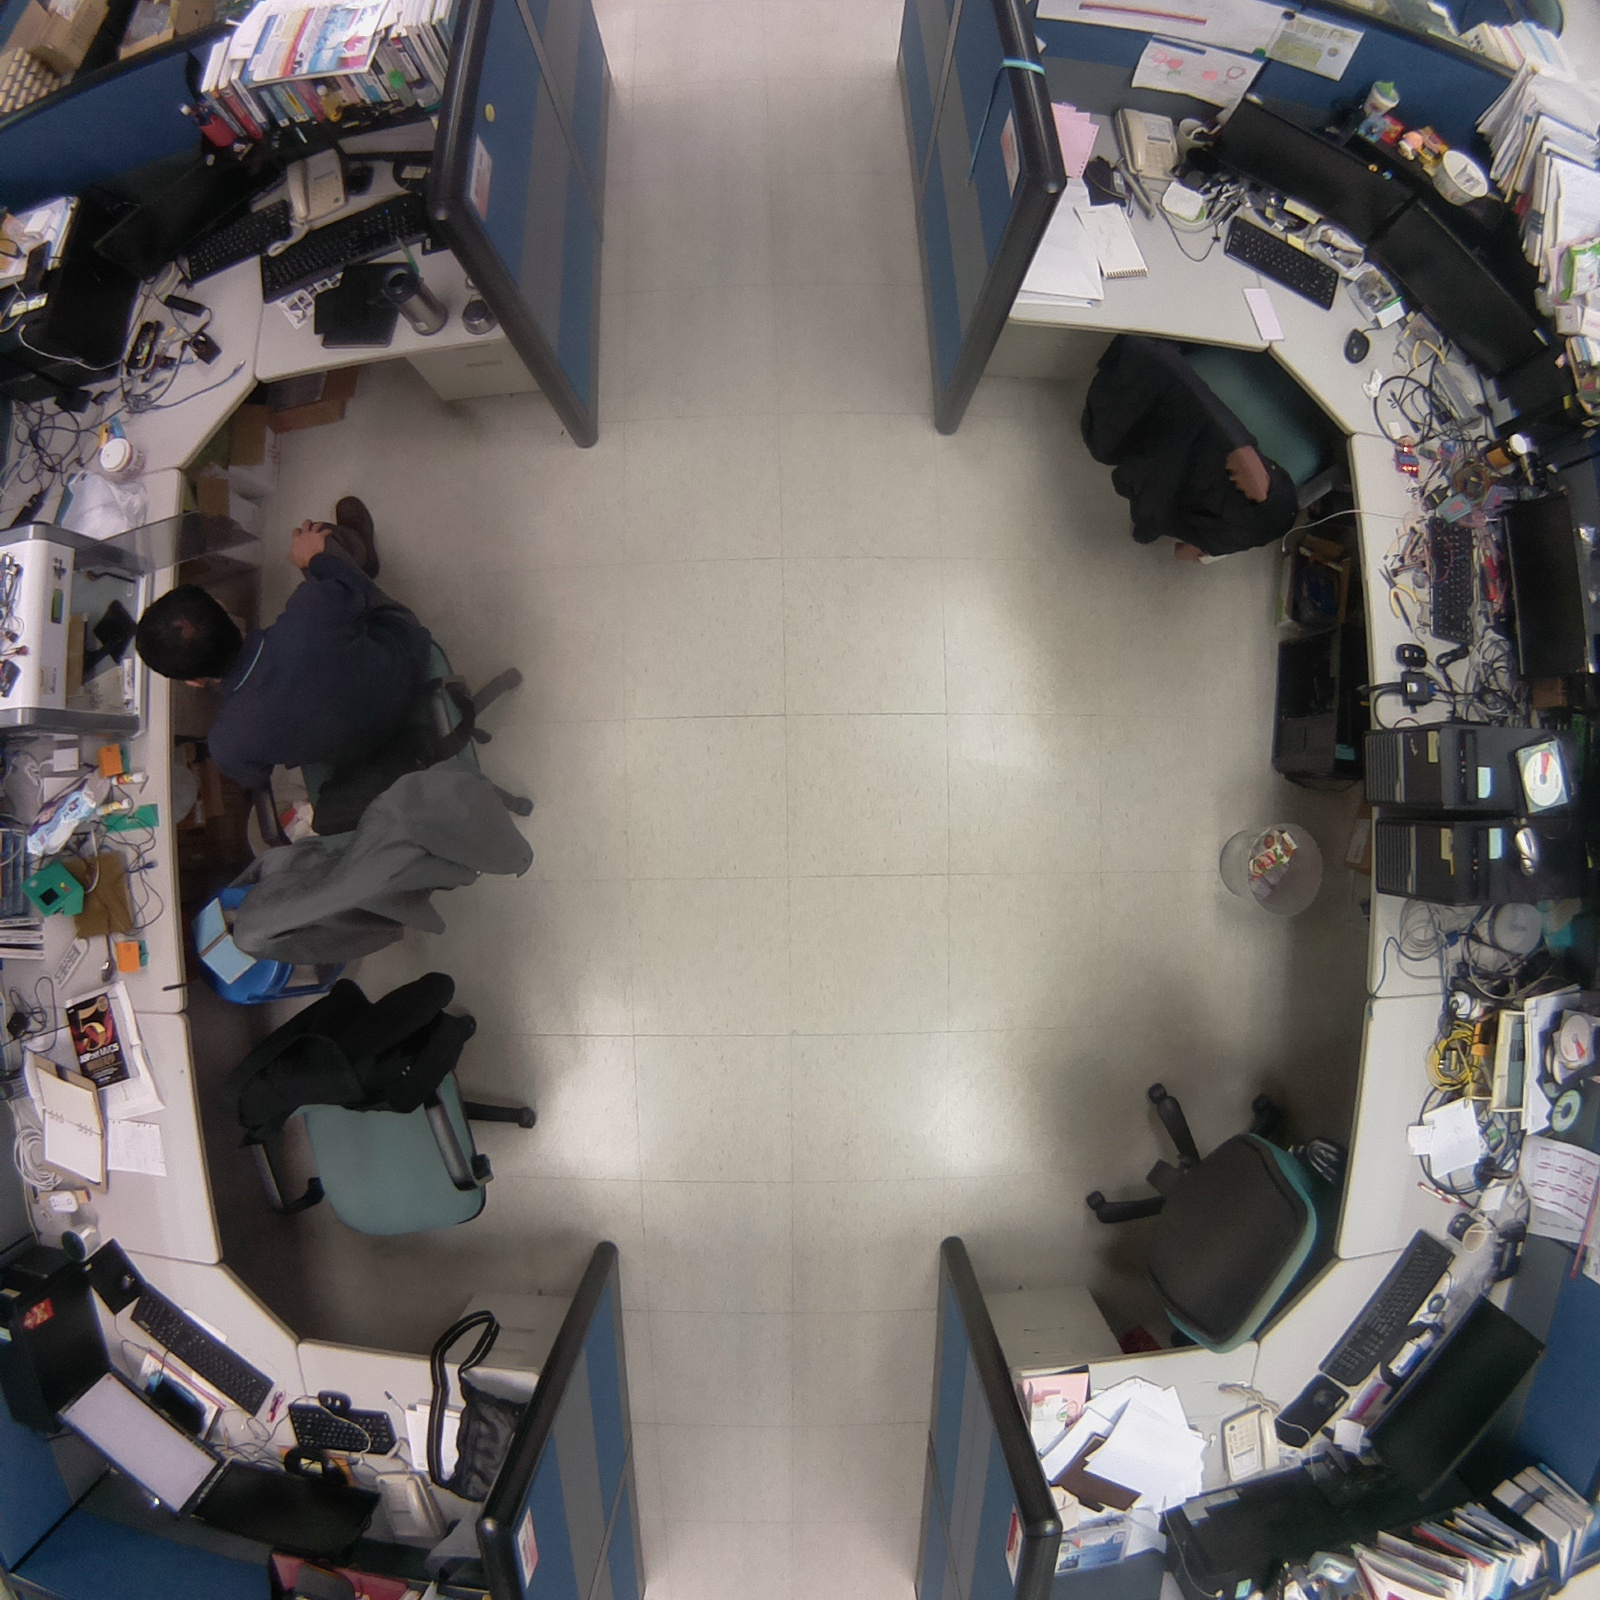chair: (227, 955, 545, 1268), (1073, 1068, 1353, 1368), (1060, 319, 1358, 570)
head: (132, 582, 246, 697)
sitting: (124, 481, 560, 988)
